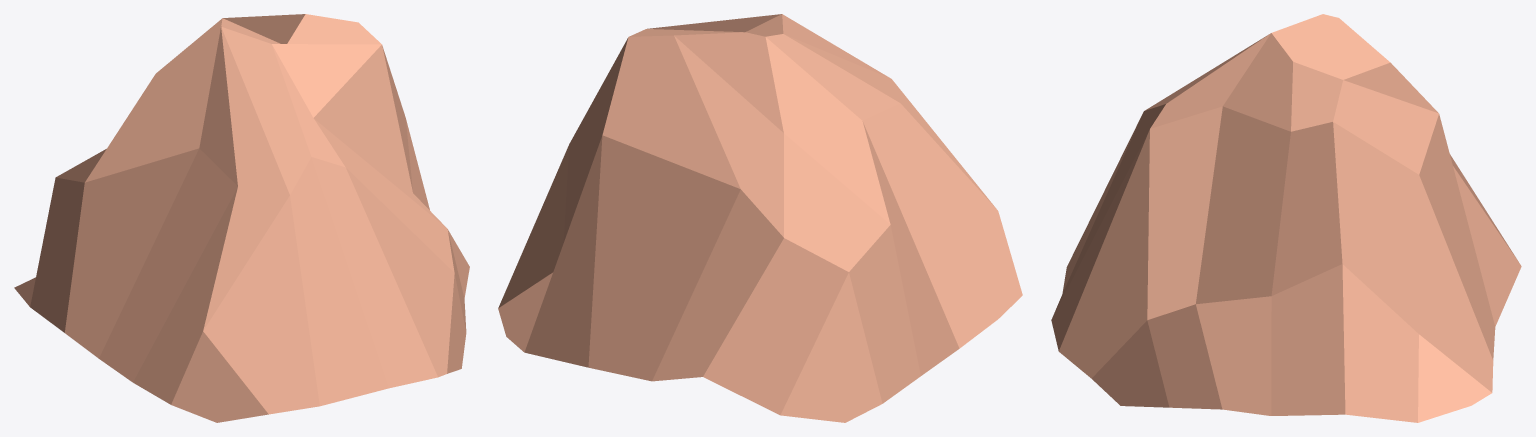
The model's file is mount.gltf.
3 views of the same model, side by side, from view 1: azimuth 30°, elevation 25°; view 2: azimuth 150°, elevation 25°; view 3: azimuth 270°, elevation 25° (orthographic). The views are drawn at different scales.
Visible parts, largest first — view 1: Plane; view 2: Plane; view 3: Plane.
Boxes of the visible parts, x1,y1,x2,y2 form: Plane: [14, 14, 469, 422]; Plane: [498, 14, 1022, 422]; Plane: [1051, 14, 1521, 422].
Bounding box in the file's own units: 3.49 × 2.74 × 3.66.
